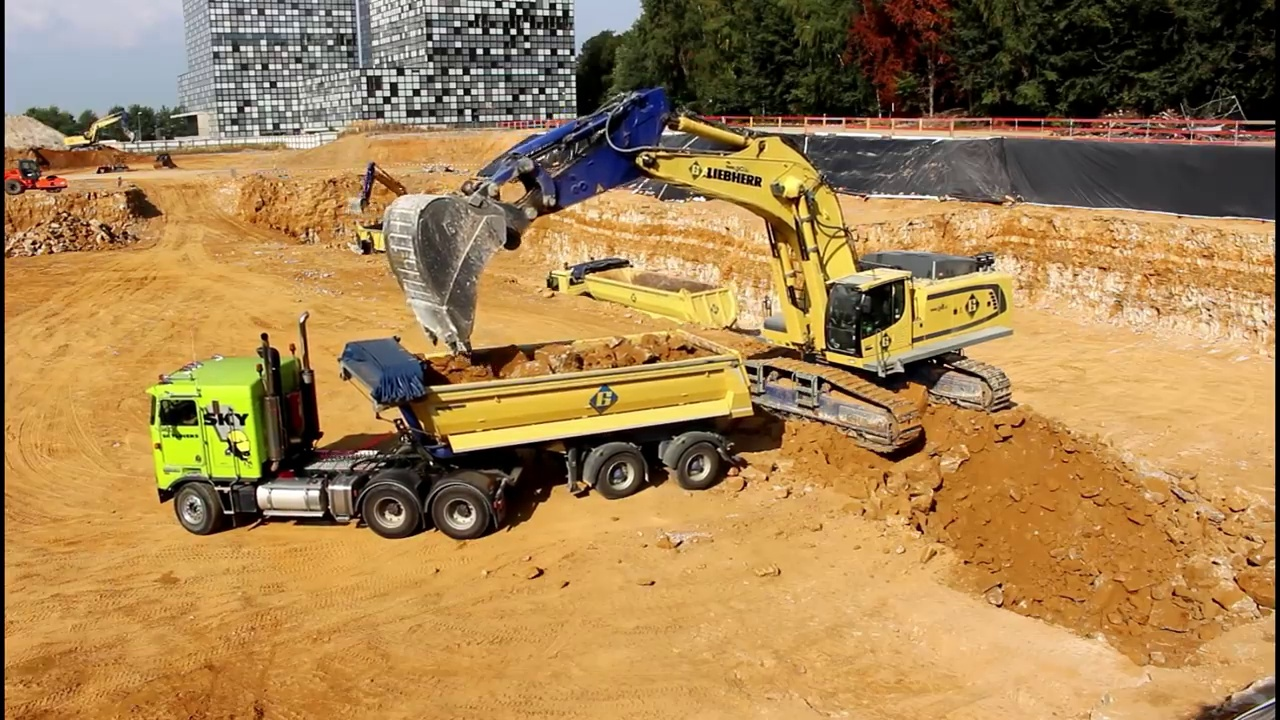compactor: (3, 158, 69, 196)
excavator: (381, 76, 1017, 459), (348, 159, 415, 245), (61, 110, 143, 155)
truck: (141, 309, 764, 544), (540, 251, 746, 357)
